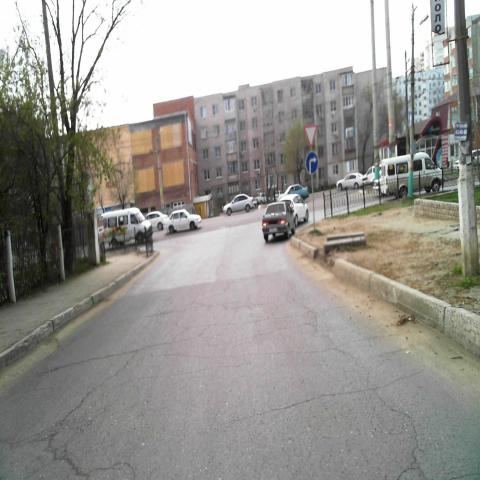4_1_2: (305, 150, 318, 175)
